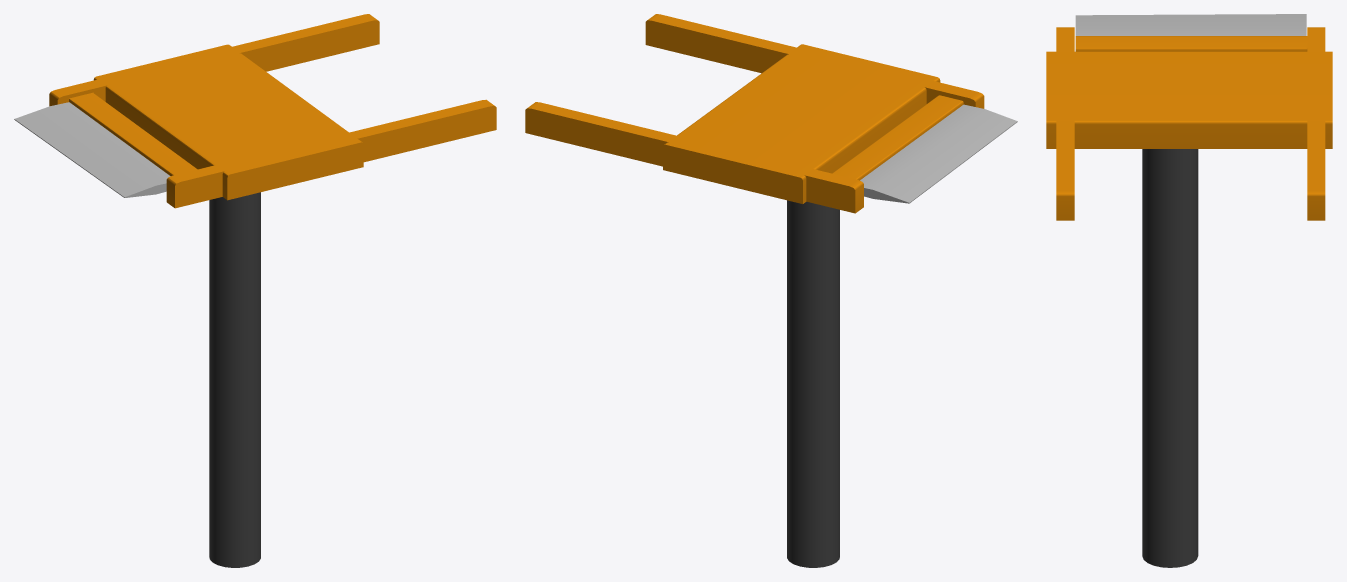
The picture shows the model from 3 angles, left to right: view 1: azimuth 30°, elevation 25°; view 2: azimuth 150°, elevation 25°; view 3: azimuth 270°, elevation 25°; orthographic projection. The views are drawn at different scales.
Visible parts, largest first — view 1: pCube27, polySurface29; view 2: pCube27, polySurface29; view 3: pCube27, polySurface29.
Part boxes in pixels (box(x1,y1,x2,y2)): pCube27: box(93, 44, 363, 567); polySurface29: box(14, 14, 496, 208); pCube27: box(663, 44, 940, 567); polySurface29: box(525, 14, 1017, 213); pCube27: box(1046, 51, 1332, 567); polySurface29: box(1056, 14, 1325, 220).
Bounding box in the file's own units: 4.44 × 5.11 × 2.81.
